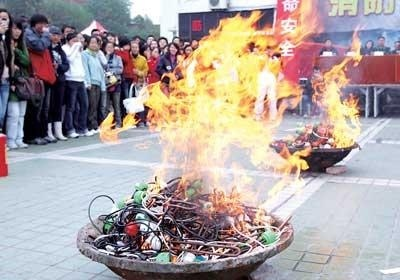fire: (137, 3, 326, 220), (311, 25, 367, 148), (97, 109, 139, 142)
